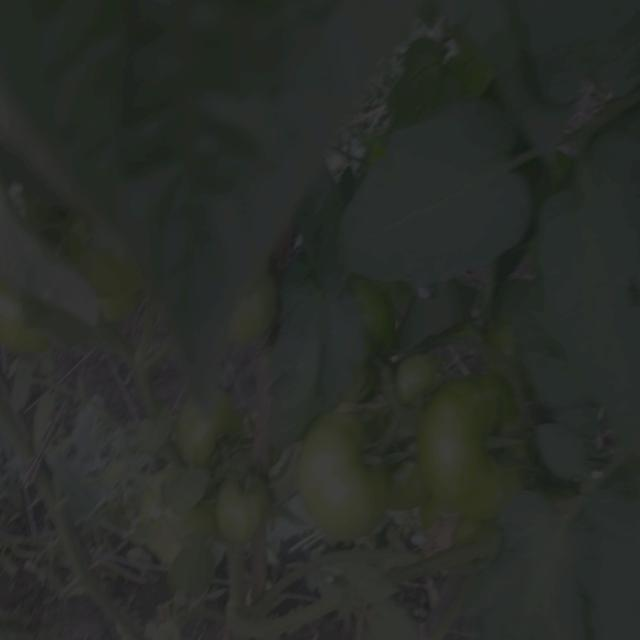tomato: (419, 374, 533, 521), (308, 401, 398, 538), (56, 210, 136, 301), (179, 387, 235, 460), (216, 471, 274, 539), (244, 266, 285, 342), (356, 281, 395, 337), (1, 293, 32, 362), (395, 358, 432, 398)
